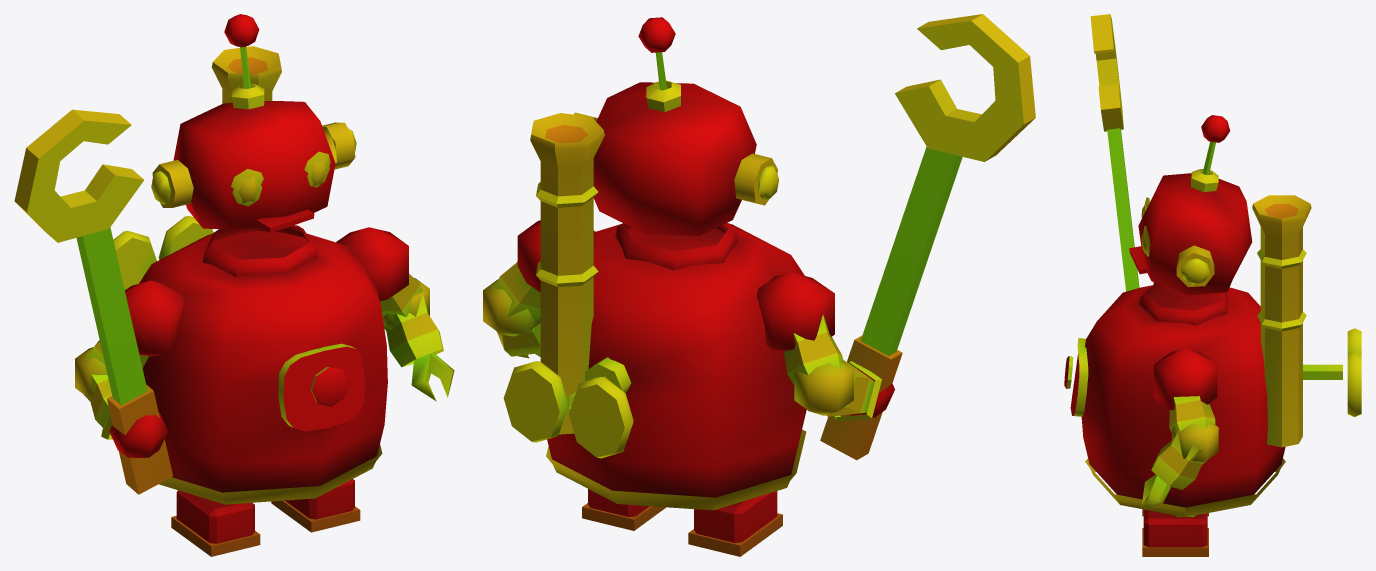
File: RobotBoiler_LOD1.glb
3 renders of one model, left to right at view 1: azimuth 30°, elevation 25°; view 2: azimuth 150°, elevation 25°; view 3: azimuth 270°, elevation 25°, orthographic. The views are drawn at different scales.
Parts seen in each view (by area): view 1: RobotBoiler_LOD1; view 2: RobotBoiler_LOD1; view 3: RobotBoiler_LOD1.
Boxes of the visible parts, x1=… form: RobotBoiler_LOD1: x1=14, y1=14, x2=454, y2=556; RobotBoiler_LOD1: x1=483, y1=14, x2=1035, y2=556; RobotBoiler_LOD1: x1=1064, y1=14, x2=1361, y2=556.
Size of the model in its own units: 0.9119 by 0.9368 by 0.6046.
